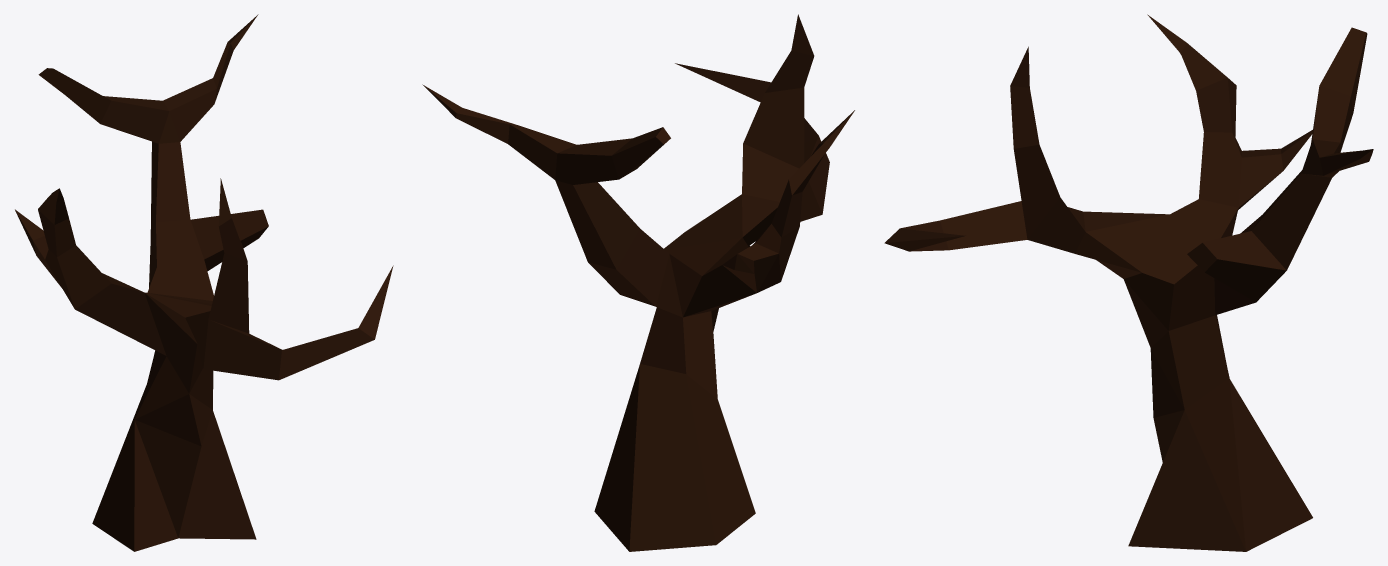
Rendered from Props4.2.fbx.
3 views of the same model, side by side, from view 1: azimuth 30°, elevation 25°; view 2: azimuth 150°, elevation 25°; view 3: azimuth 270°, elevation 25° (orthographic). The views are drawn at different scales.
Visible parts, largest first — view 1: Cube.005; view 2: Cube.005; view 3: Cube.005.
Boxes of the visible parts, x1,y1,x2,y2 form: Cube.005: [15, 14, 393, 551]; Cube.005: [422, 14, 854, 551]; Cube.005: [884, 14, 1373, 551].
Size of the model in its own units: 810 by 1080 by 1032.
